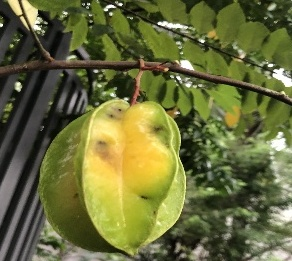Khe: (36, 98, 188, 256)
